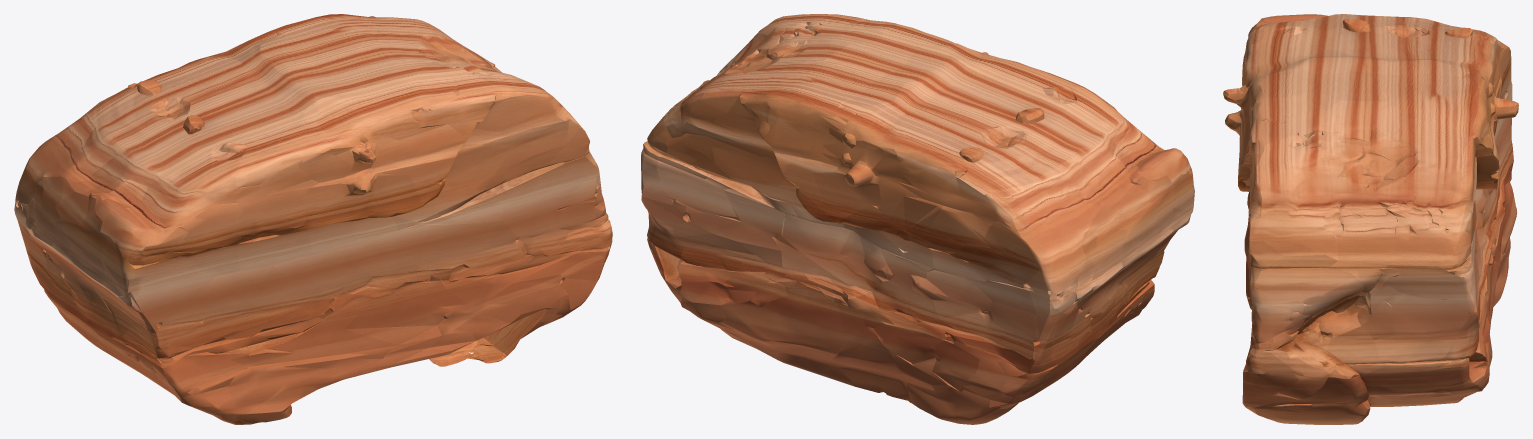
The model's file is min4-sandstone-final.glb.
The picture shows the model from 3 angles, left to right: view 1: azimuth 30°, elevation 25°; view 2: azimuth 150°, elevation 25°; view 3: azimuth 270°, elevation 25°; orthographic projection. The views are drawn at different scales.
Size of the model in its own units: 0.2157 by 0.12 by 0.1135.
1 material, 1 textured.
